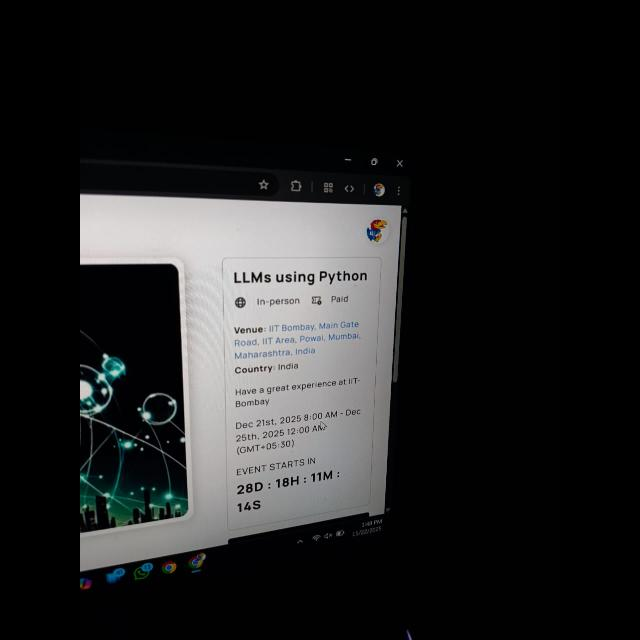laptop: (81, 136, 498, 640)
